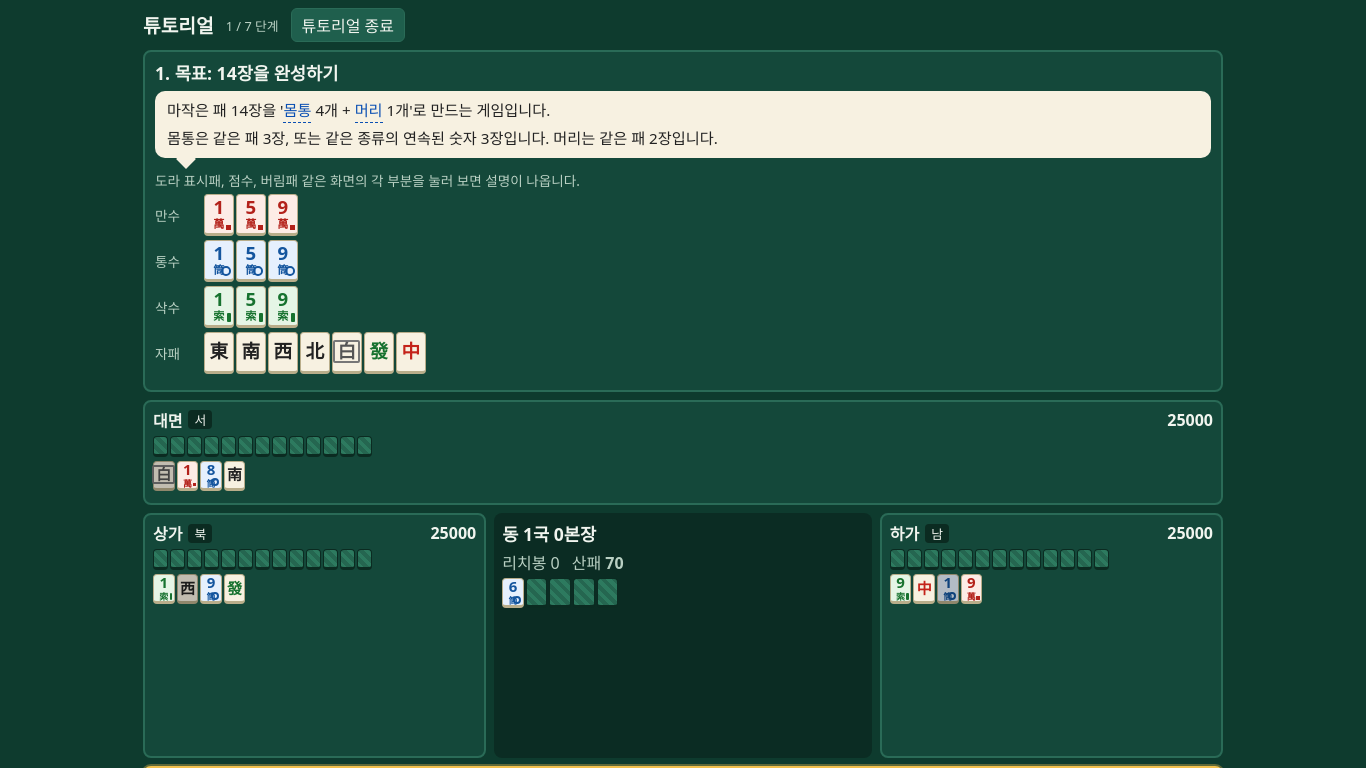
TutorialPage 용어 주석 › 누르면 뜻풀이 팝오버가 뜨고 닫기/Esc로 닫히며 연습 상태는 바뀌지 않는다
This screenshot has width=1366, height=768.
Click the button with aria-label "'몸통' 뜻 보기": (298, 111) [284,99,312,123]
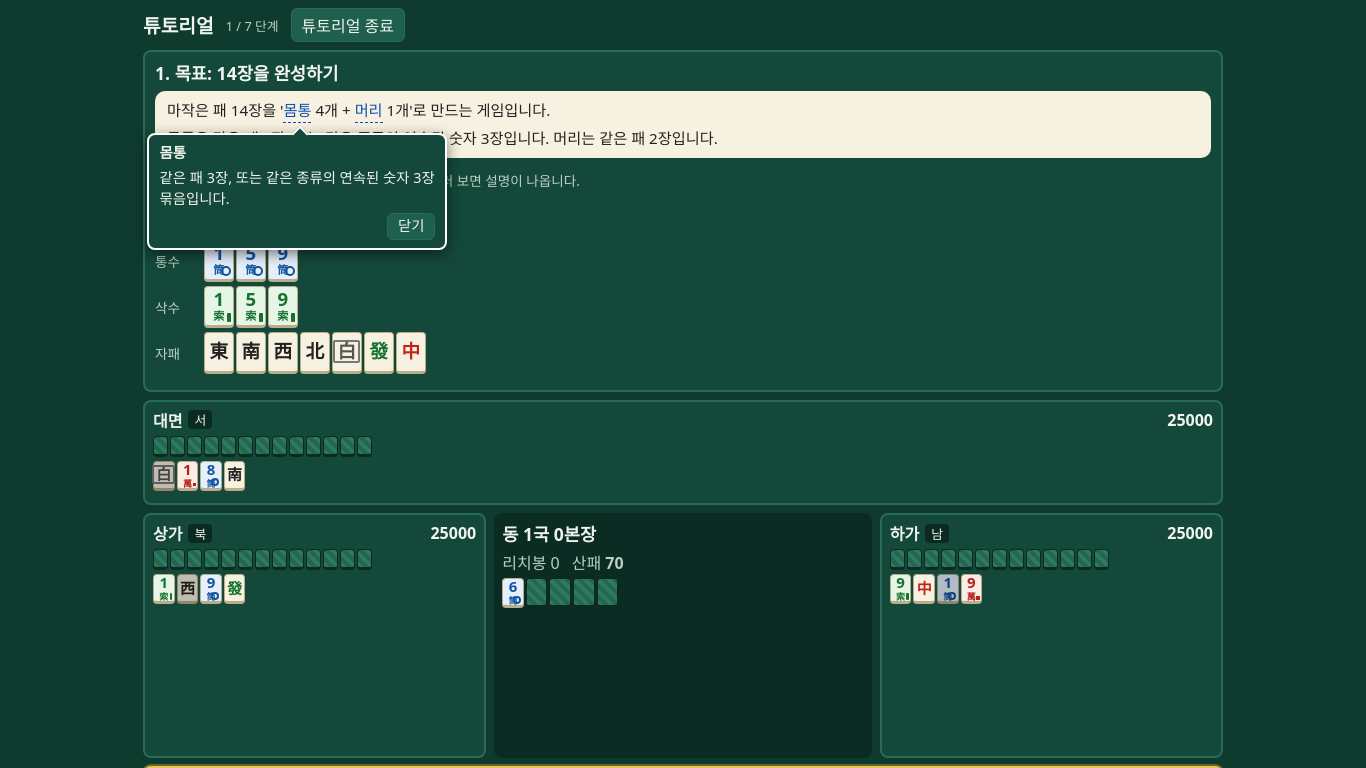
expect the text with test id "tutorial-progress" shows "1 / 7": met, box [226,16,279,34]
expect the dialog with test id "tutorial-popover" shows "연속된 숫자 3장": met, box [160,168,435,208]
Click the button "닫기": (411, 227) [387,213,436,240]
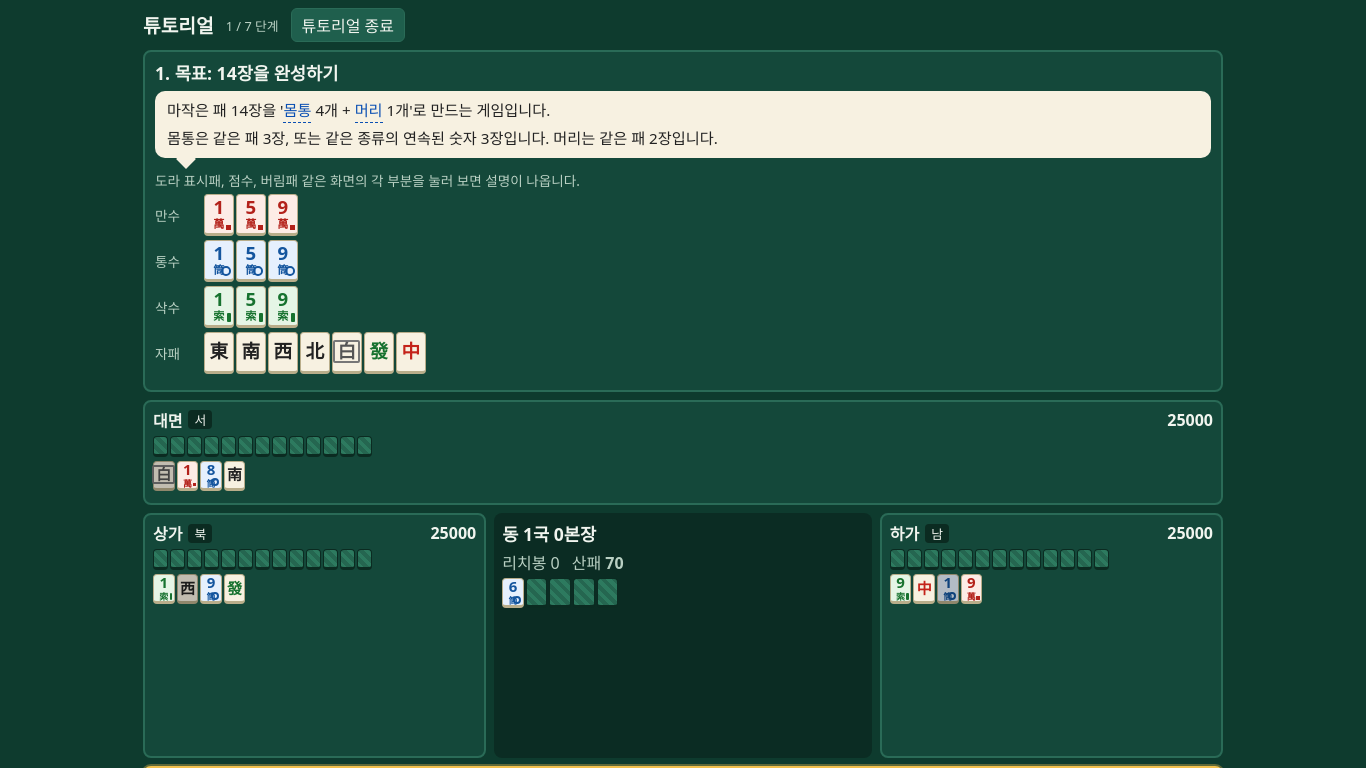
expect the dialog with test id "tutorial-popover" is gone: met
Click the button with aria-label "'머리' 뜻 보기": (369, 111) [355,99,383,123]
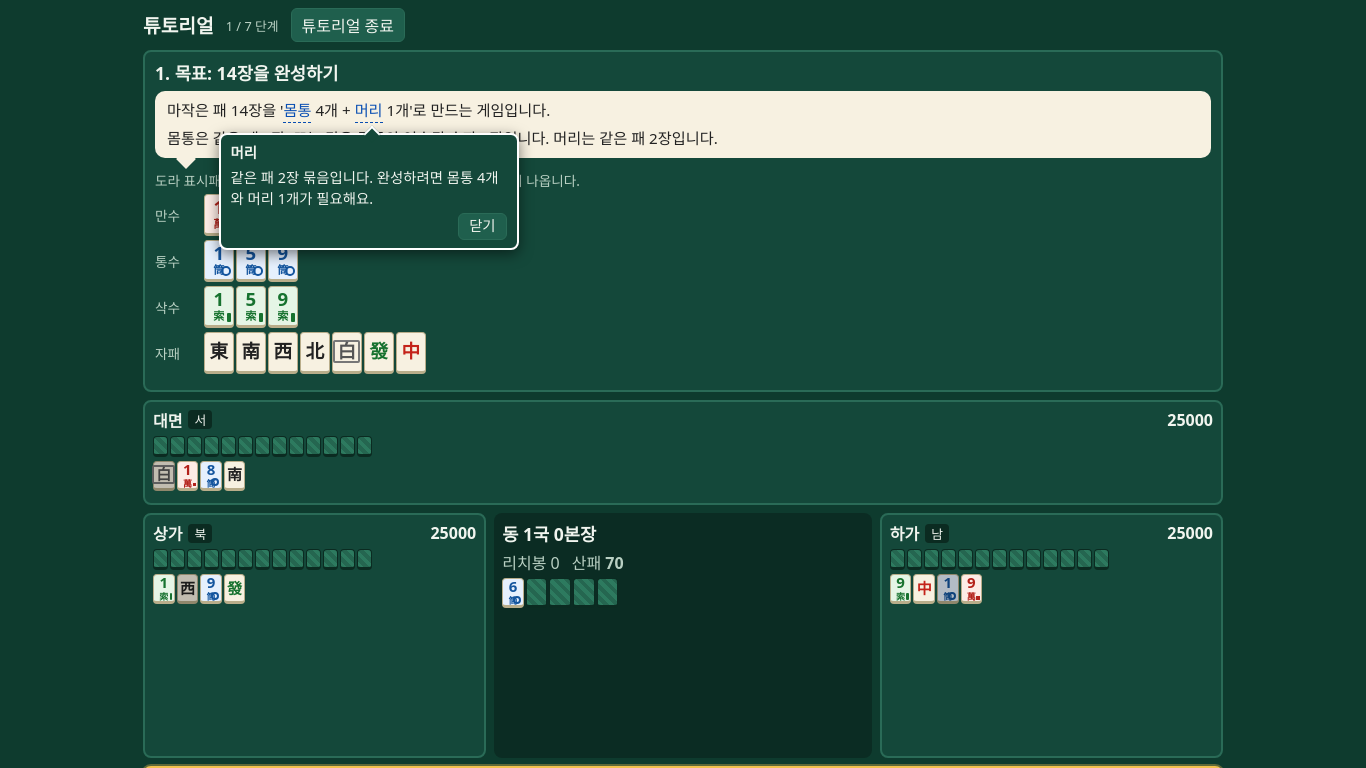
expect the dialog with test id "tutorial-popover" shows "2장": met, box [231,168,498,208]
Press Escape
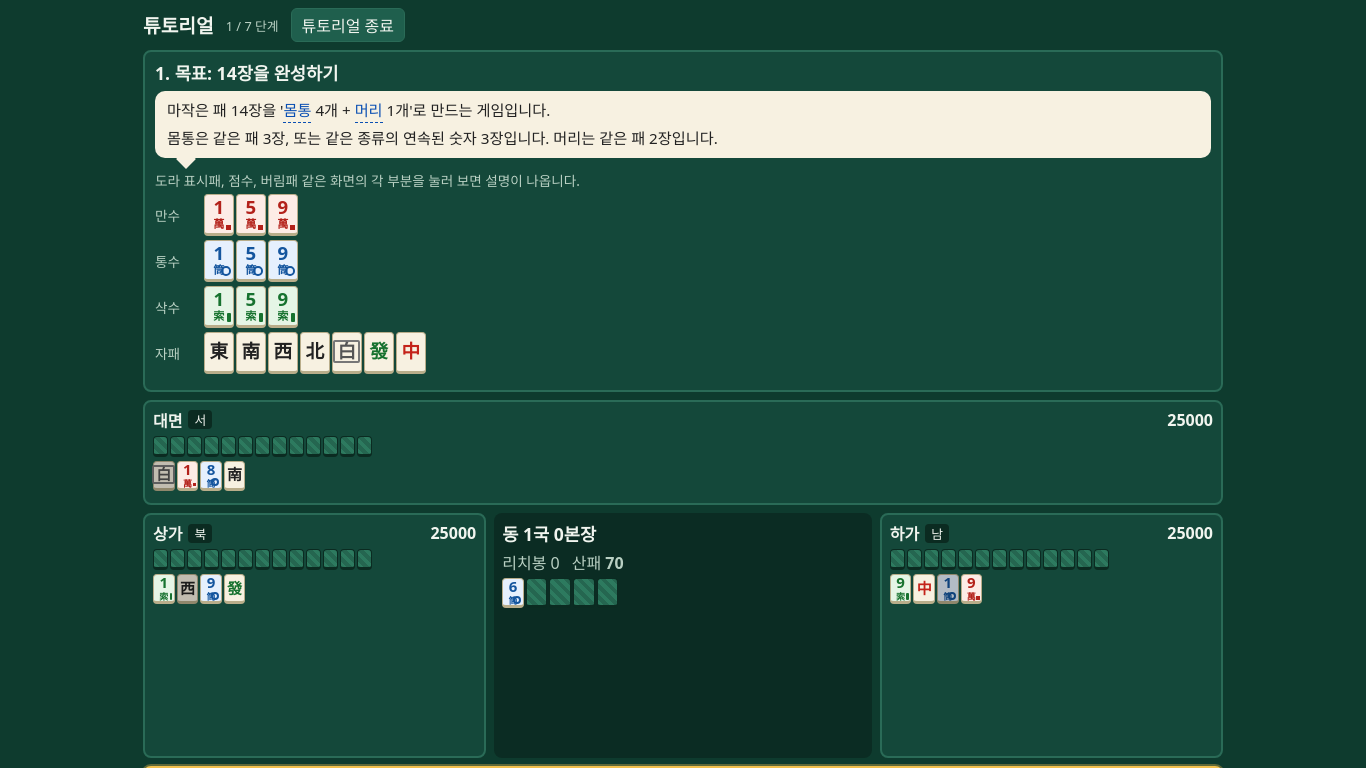
expect the dialog with test id "tutorial-popover" is gone: met
